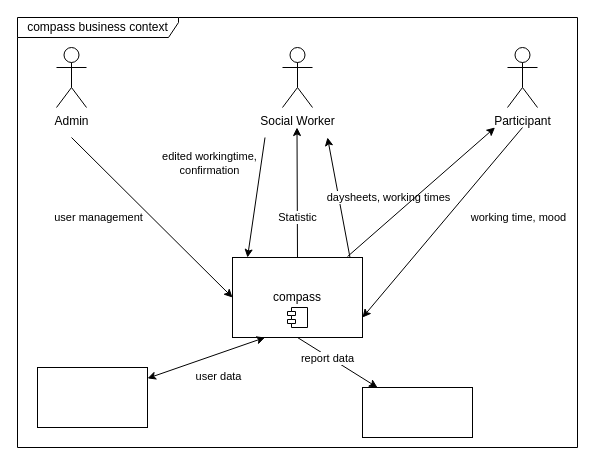
Some shapes in this 595 by 465 pixel diagram are drawn without their labels. The shapes that lost their labels are listed below. From the top down, each one's centre as x and y in pixels, then its label:
point 92,397: oAuth
point 417,412: «pdf-file» Export Report
